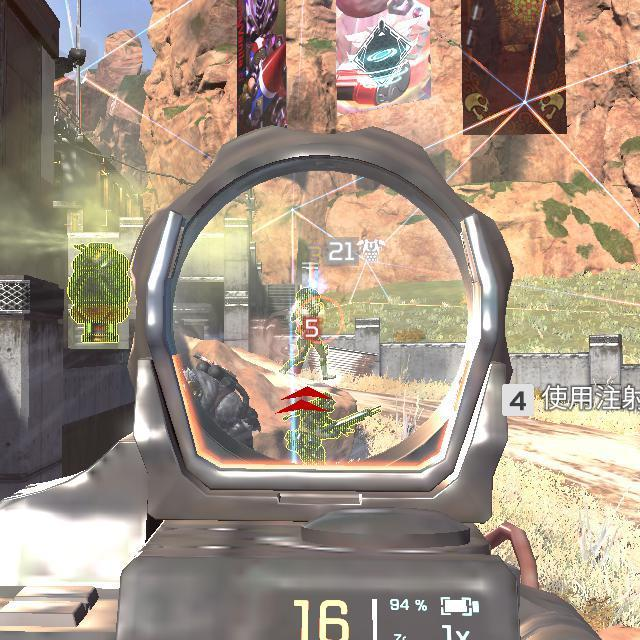avatar: (284, 390, 337, 466), (289, 286, 329, 383)
